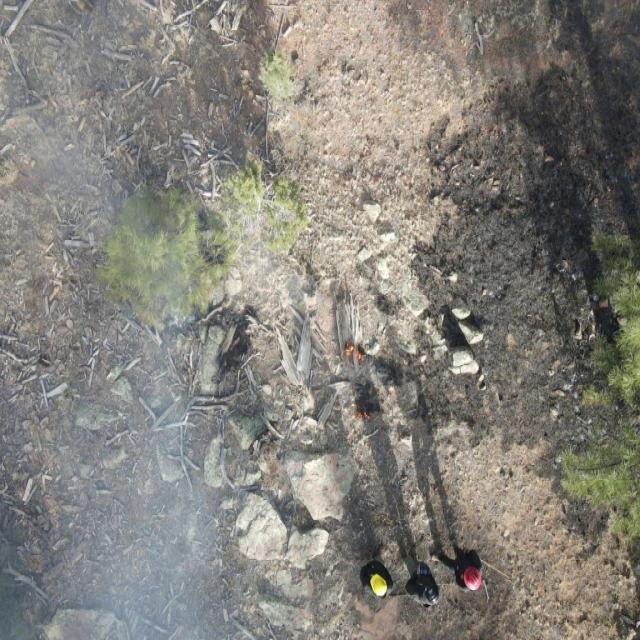fire: (343, 338, 365, 364), (349, 408, 374, 422)
smoke: (0, 0, 215, 640), (200, 221, 390, 429)
